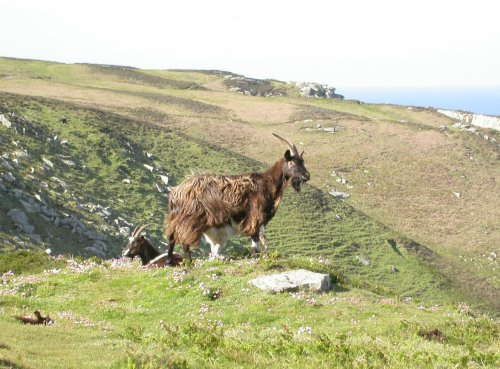goat: (163, 133, 311, 269), (122, 222, 185, 268)
